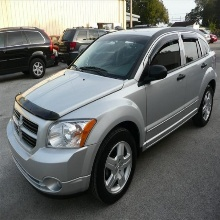no damage: (6, 26, 217, 205), (1, 28, 54, 82), (58, 28, 113, 64)
